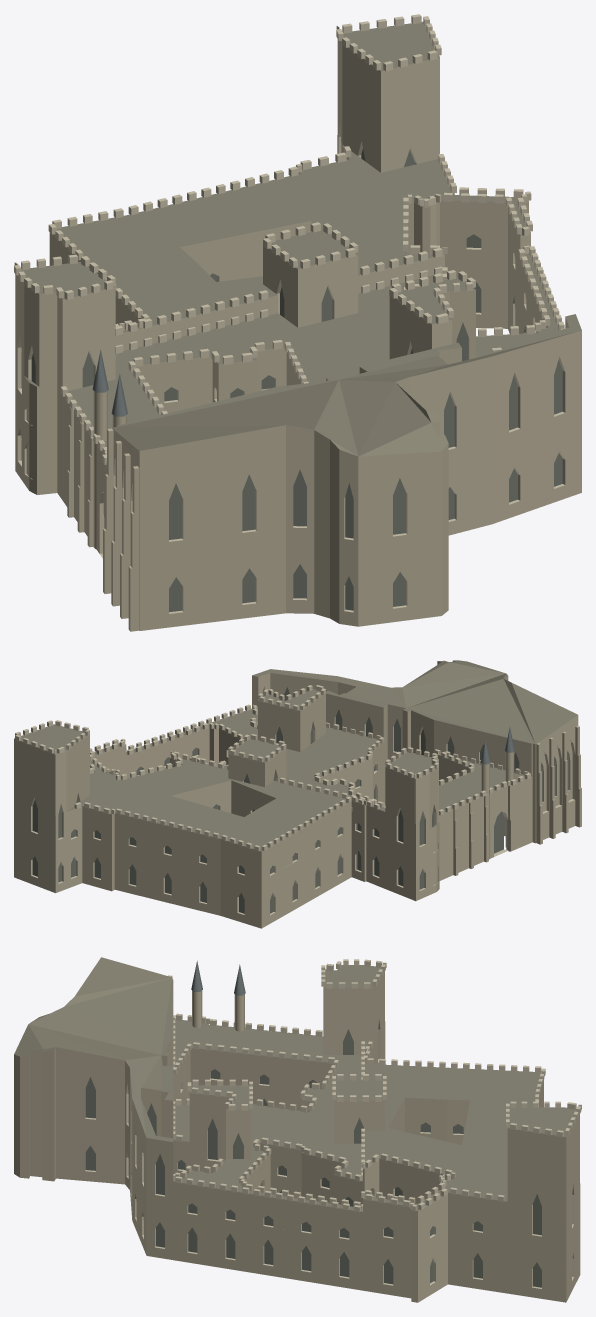
Rendered from palais-des-papes-avignon-far.glb.
3 renders of one model, top to bottom at view 1: azimuth 30°, elevation 25°; view 2: azimuth 150°, elevation 25°; view 3: azimuth 270°, elevation 25°, orthographic. The views are drawn at different scales.
Visible parts, largest first — view 1: palais-des-papes-avignon-0-stone, palais-des-papes-avignon-0-roof, palais-des-papes-avignon-0-edge, palais-des-papes-avignon-0-recess, palais-des-papes-avignon-0-slate; view 2: palais-des-papes-avignon-0-stone, palais-des-papes-avignon-0-roof, palais-des-papes-avignon-0-edge, palais-des-papes-avignon-0-recess; view 3: palais-des-papes-avignon-0-stone, palais-des-papes-avignon-0-roof, palais-des-papes-avignon-0-edge, palais-des-papes-avignon-0-recess.
Boxes of the visible parts, x1,y1,x2,y2 form: palais-des-papes-avignon-0-stone: (15, 39, 581, 631); palais-des-papes-avignon-0-roof: (21, 21, 581, 456); palais-des-papes-avignon-0-edge: (14, 14, 565, 613); palais-des-papes-avignon-0-recess: (21, 149, 562, 612); palais-des-papes-avignon-0-slate: (92, 349, 127, 416); palais-des-papes-avignon-0-stone: (14, 660, 581, 928); palais-des-papes-avignon-0-roof: (14, 660, 577, 851); palais-des-papes-avignon-0-edge: (15, 685, 575, 915); palais-des-papes-avignon-0-recess: (32, 687, 569, 913); palais-des-papes-avignon-0-stone: (14, 972, 580, 1302); palais-des-papes-avignon-0-roof: (14, 957, 576, 1211); palais-des-papes-avignon-0-edge: (85, 959, 581, 1288); palais-des-papes-avignon-0-recess: (85, 1029, 541, 1287).
Bounding box in the file's own units: 143 × 52 × 157.
